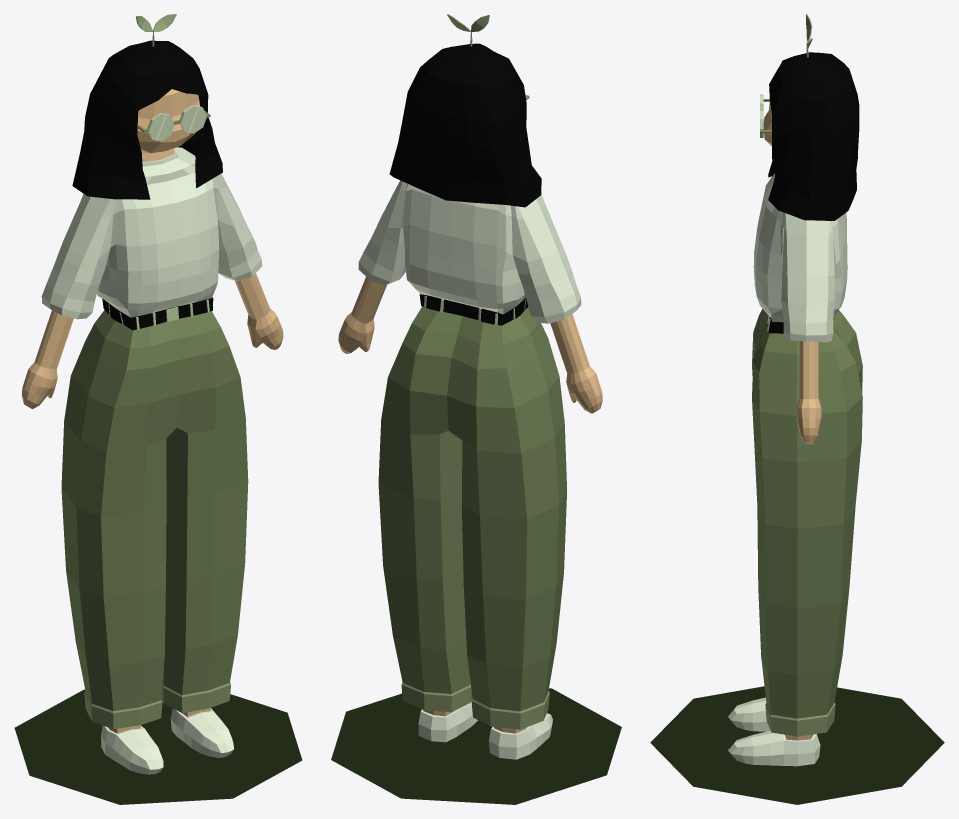
File: avatar.glb
The picture shows the model from 3 angles, left to right: view 1: azimuth 30°, elevation 25°; view 2: azimuth 150°, elevation 25°; view 3: azimuth 270°, elevation 25°; orthographic projection. The views are drawn at different scales.
Visible parts, largest first — view 1: avatar; view 2: avatar; view 3: avatar.
Part boxes in pixels (x1=…): avatar: x1=14, y1=14, x2=302, y2=804; avatar: x1=331, y1=14, x2=621, y2=804; avatar: x1=650, y1=14, x2=944, y2=804.
Bounding box in the file's own units: 0.6279 × 1.69 × 0.6279.
